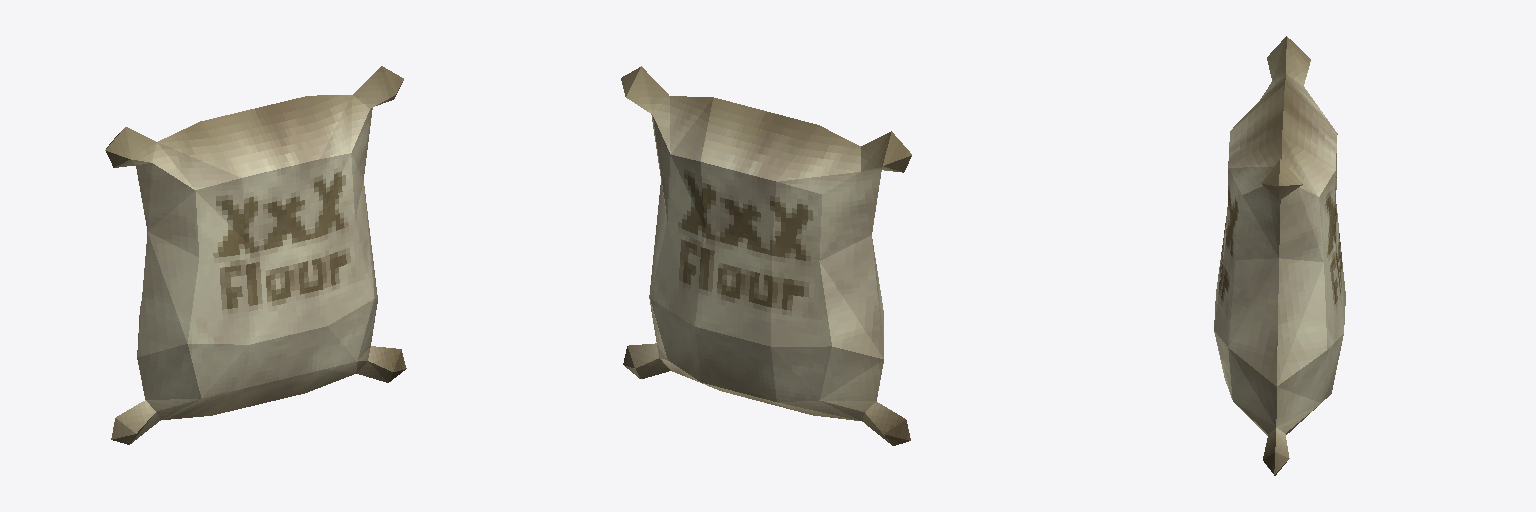
3 views of the same model, side by side, from view 1: azimuth 30°, elevation 25°; view 2: azimuth 150°, elevation 25°; view 3: azimuth 270°, elevation 25° (orthographic).
Visible parts, largest first — view 1: flour_sack_Dummy002; view 2: flour_sack_Dummy002; view 3: flour_sack_Dummy002.
Part boxes in pixels (x1,y1,x2,y2): flour_sack_Dummy002: (105, 66, 406, 444); flour_sack_Dummy002: (621, 66, 911, 445); flour_sack_Dummy002: (1214, 36, 1345, 475).
Size of the model in its own units: 0.9833 by 1.01 by 0.3805.
1 materials, 1 textured.